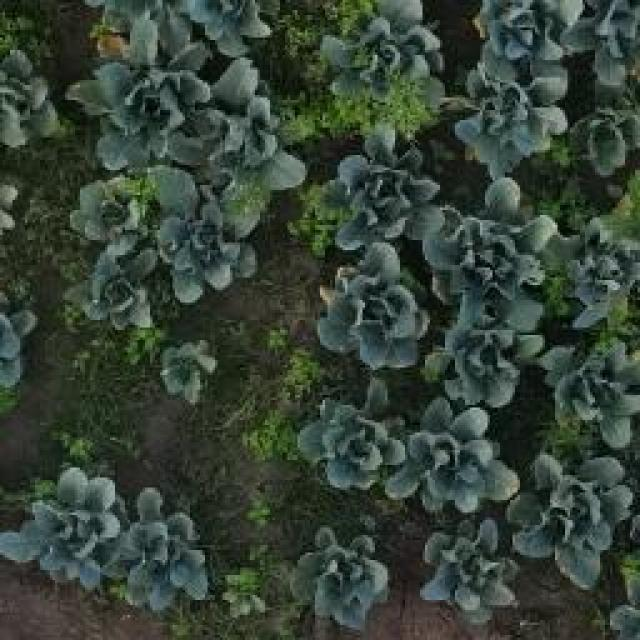cabbage: (425, 181, 557, 327), (512, 451, 632, 579), (5, 462, 121, 586), (317, 244, 431, 369), (84, 50, 210, 163), (320, 0, 448, 108), (323, 131, 445, 244), (204, 64, 307, 194), (396, 401, 516, 511), (456, 60, 569, 176), (114, 490, 212, 610), (538, 338, 640, 451), (304, 383, 404, 491), (288, 527, 391, 631), (418, 518, 516, 625), (154, 205, 260, 303), (422, 321, 543, 406), (564, 214, 640, 332), (82, 232, 160, 331), (568, 85, 640, 177), (72, 174, 153, 244), (157, 338, 219, 402)
